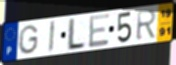5: (117, 11, 133, 44)
E: (88, 12, 111, 49)
G: (17, 24, 40, 56)
I: (48, 19, 57, 54)
L: (65, 17, 87, 53)
R: (135, 9, 158, 42)
